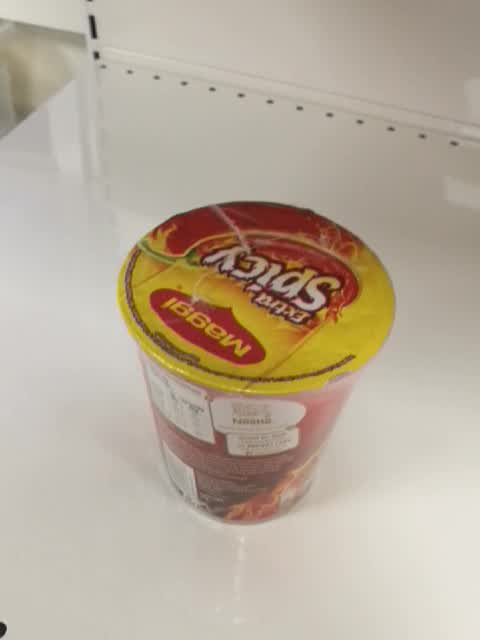maggi: (117, 201, 396, 528)
